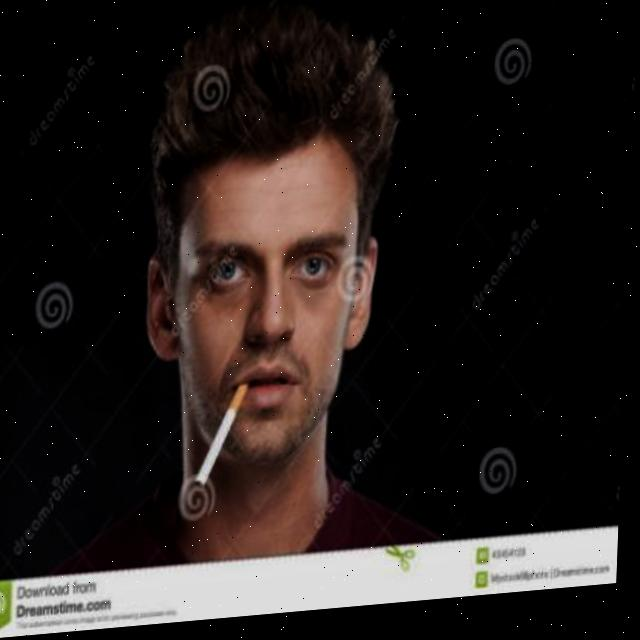cigarette: (199, 384, 252, 497)
